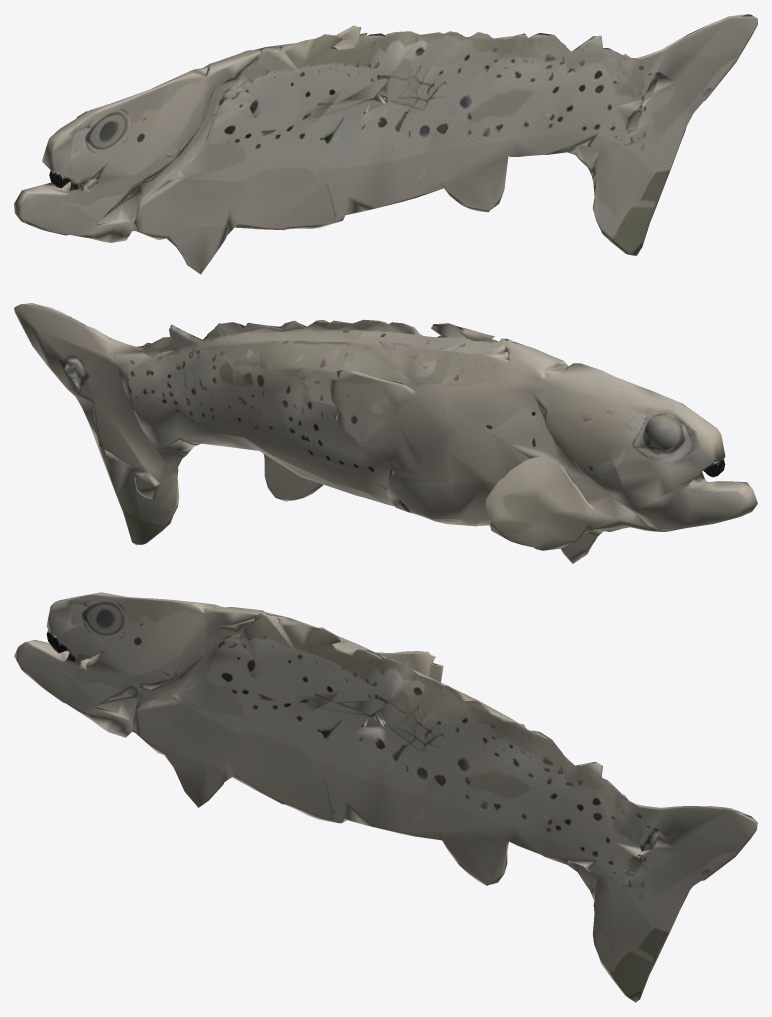
Rendered from fishTrout.glb.
3 views of the same model, one above another, from view 1: azimuth 30°, elevation 25°; view 2: azimuth 150°, elevation 25°; view 3: azimuth 330°, elevation 25° (orthographic).
Parts seen in each view (by area): view 1: tripo_node_53f107ff-c384-47a0-9a4a-211d32e9bcf5; view 2: tripo_node_53f107ff-c384-47a0-9a4a-211d32e9bcf5; view 3: tripo_node_53f107ff-c384-47a0-9a4a-211d32e9bcf5.
Part boxes in pixels (left/top/right/bottom): tripo_node_53f107ff-c384-47a0-9a4a-211d32e9bcf5: left=14, top=14, right=757, bottom=274; tripo_node_53f107ff-c384-47a0-9a4a-211d32e9bcf5: left=14, top=303, right=757, bottom=563; tripo_node_53f107ff-c384-47a0-9a4a-211d32e9bcf5: left=14, top=592, right=757, bottom=1002.
Bounding box in the file's own units: 2.61 × 1 × 0.288.
Materials: 1 (1 with a texture image).
